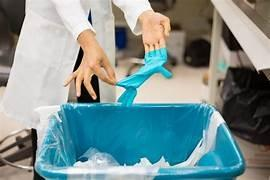Glove: (117, 48, 171, 105)
